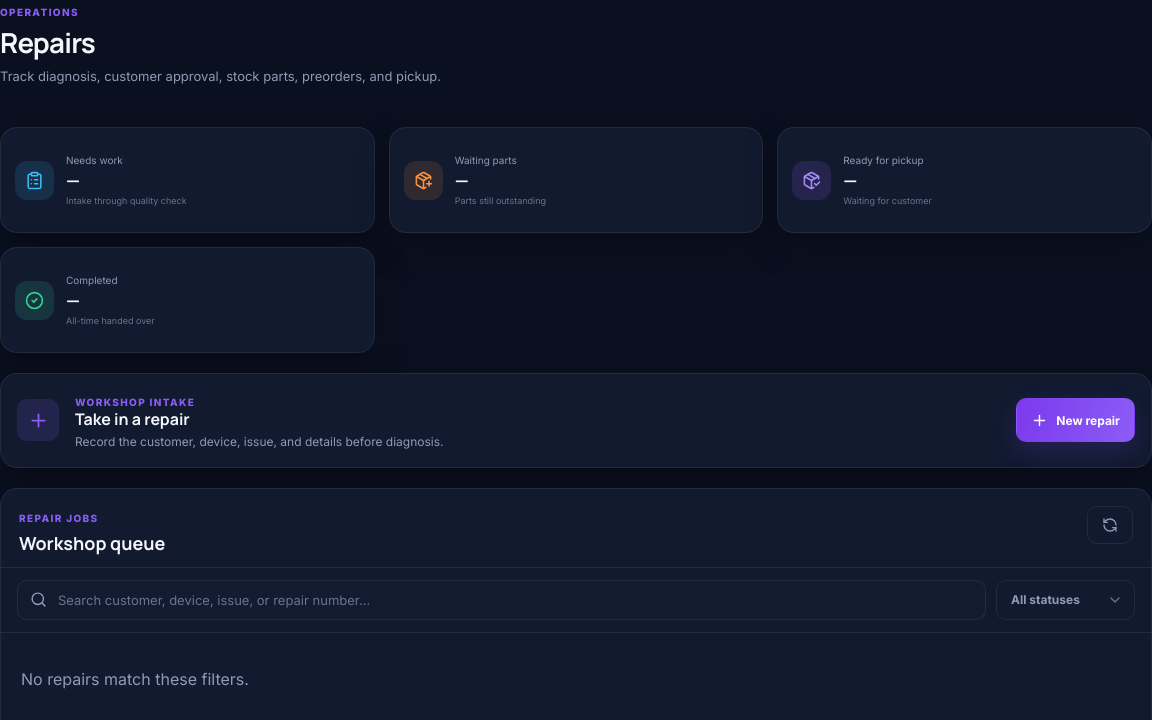
Test: RepairWorkspace › opens the existing repair form from the shared action card
The width and height of the screenshot is (1152, 720).
Expected: the heading "Take in a repair" is shown, [75, 408, 190, 430]
Click the button "New repair": click(1076, 420) [1016, 398, 1135, 442]
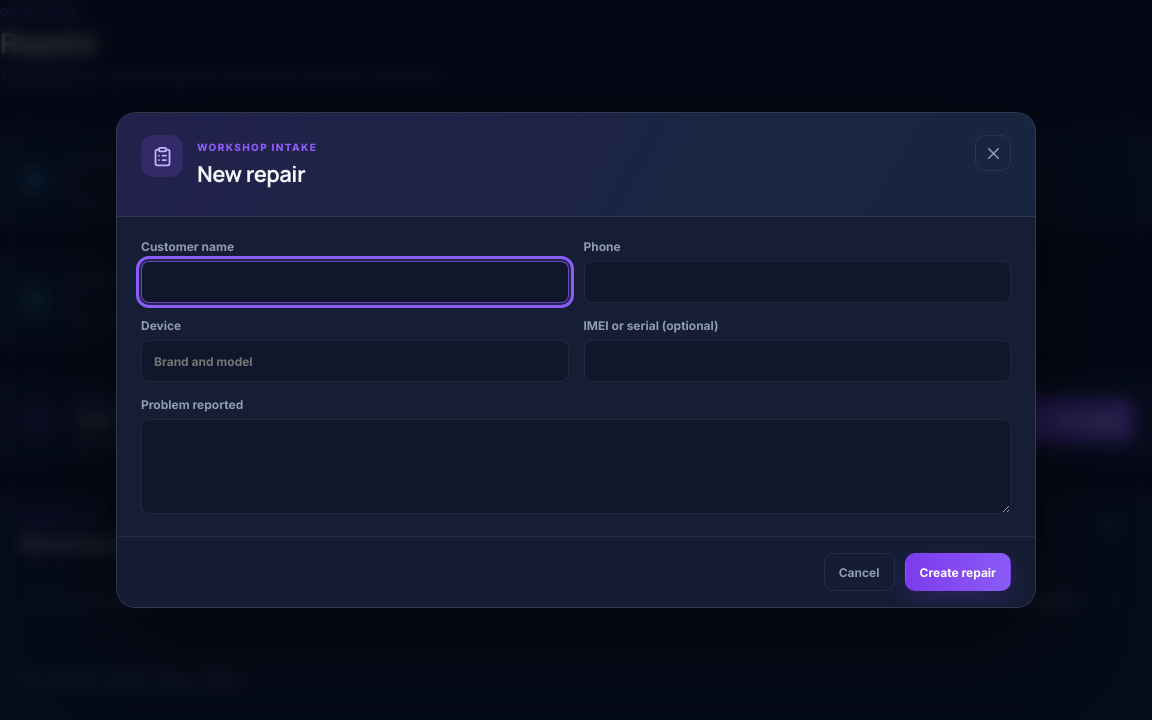
Result: the field labelled "Customer name" is shown at [141, 261, 568, 303]
Result: the button "Create repair" is shown at [904, 553, 1011, 591]
